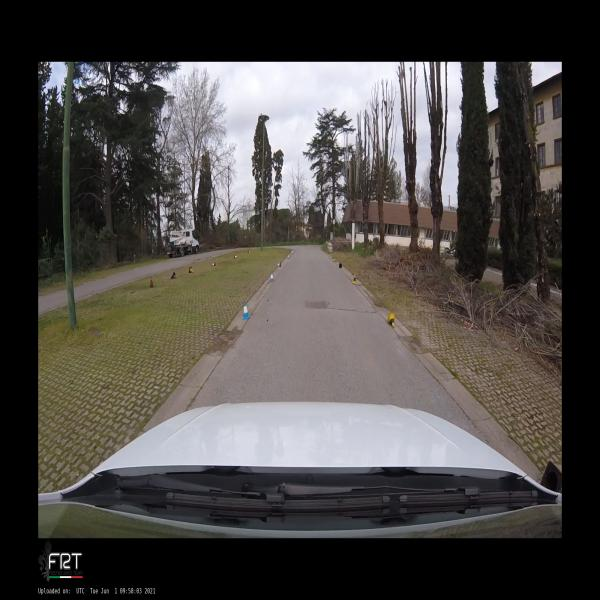blue_cone: (242, 302, 250, 319), (270, 272, 274, 282), (277, 262, 281, 267), (291, 251, 293, 254), (288, 254, 289, 258)
orange_cone: (211, 262, 216, 266), (234, 254, 237, 258), (248, 250, 250, 253)
unknown_cone: (540, 461, 562, 492), (150, 277, 154, 288), (170, 272, 176, 278), (189, 266, 194, 272), (339, 263, 342, 269)
yellow_cone: (387, 312, 396, 328), (352, 274, 356, 285), (332, 256, 334, 260), (327, 252, 329, 256)
